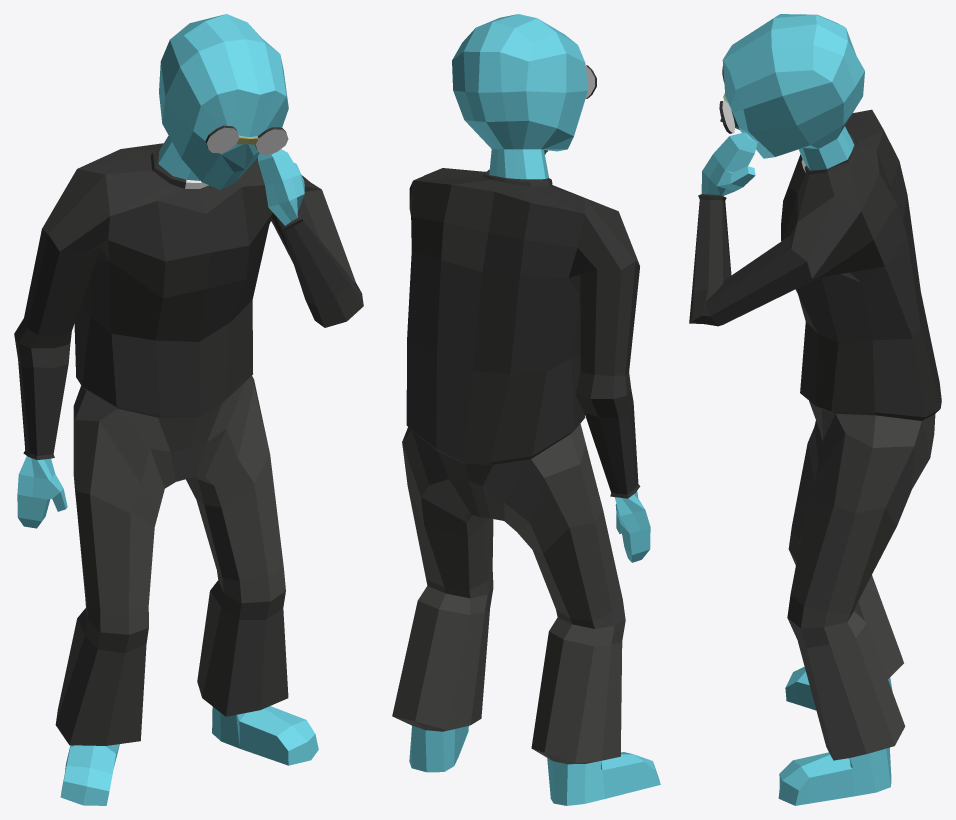
File: MissIonaNairy_Plush.fbx
The picture shows the model from 3 angles, left to right: view 1: azimuth 30°, elevation 25°; view 2: azimuth 150°, elevation 25°; view 3: azimuth 270°, elevation 25°; orthographic projection. The views are drawn at different scales.
Visible parts, largest first — view 1: Cube; view 2: Cube; view 3: Cube.
Part boxes in pixels (box(x1,y1,x2,y2)): Cube: box(14, 14, 363, 805); Cube: box(392, 14, 660, 805); Cube: box(689, 14, 941, 805).
Bounding box in the file's own units: 66.51 × 173 × 53.28.
